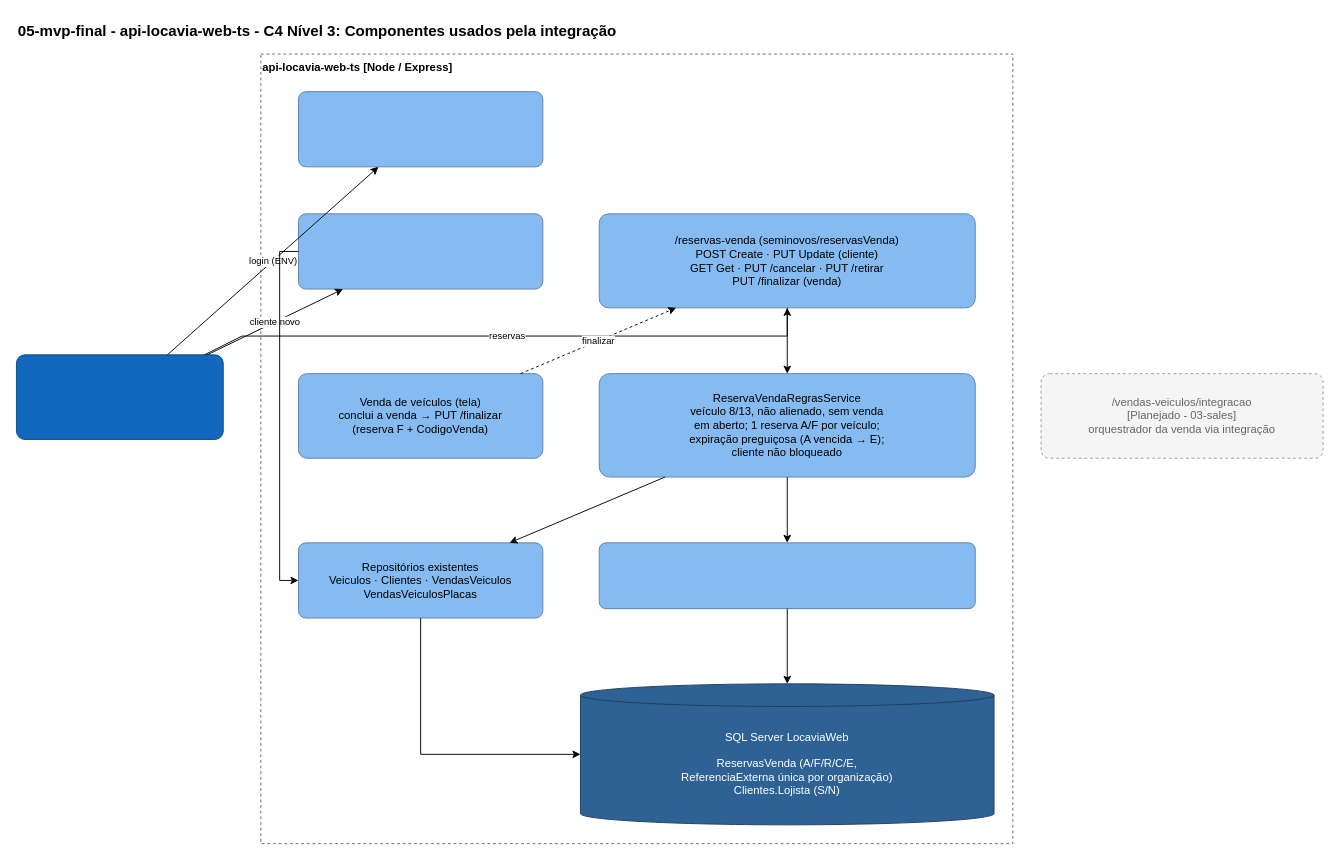
This 1340x860 diagram has some shape labels left out. Here are the shapes that lost their labels. From the top down, the centre of each, then its label:
At (x=420, y=129): "POST /sessoes Sessão (login, senha, organização) → JWT".
At (x=420, y=251): "POST /clientes CreateCliente (Pessoa + endereço + Lojista = S)".
At (x=119, y=396): "api-locaviaweb-car-inventory [Usuário de integração]".
At (x=786, y=575): "SQLReservasVendaRepository (TypeORM, transação autoTransaction)".
